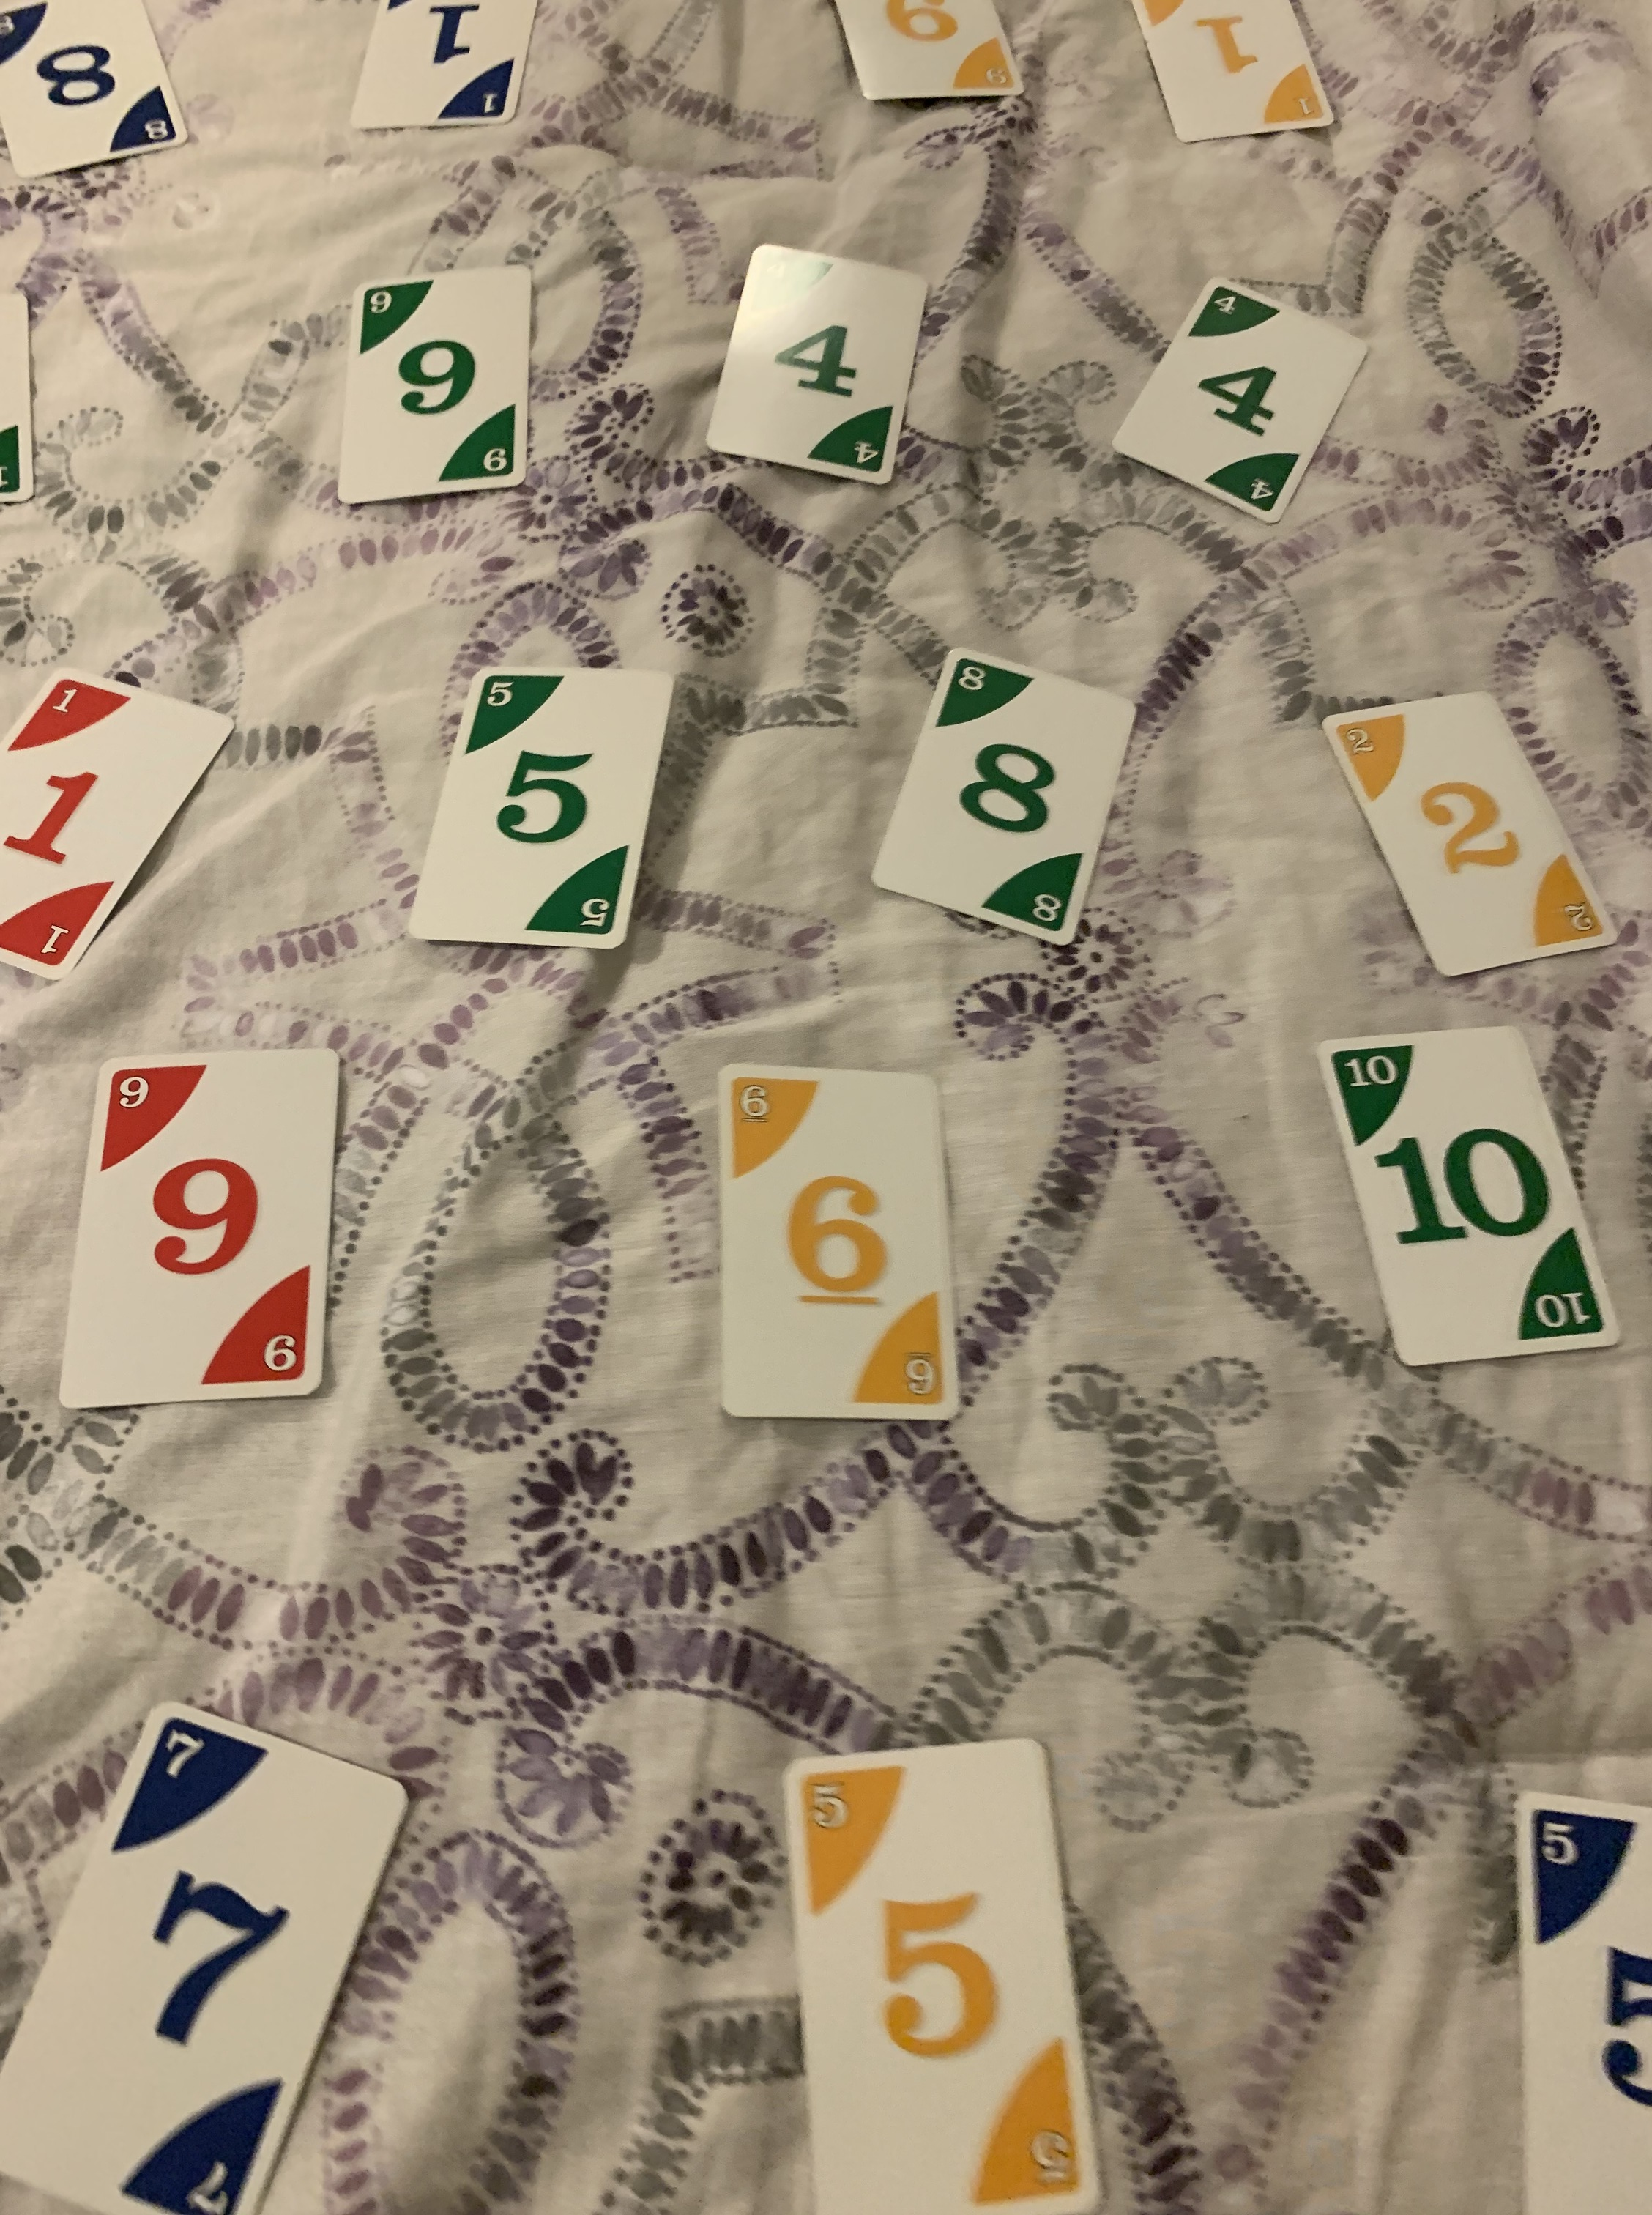eight: (866, 647, 1142, 953), (0, 2, 196, 194)
five: (786, 1736, 1105, 2215), (396, 656, 675, 950)
four: (1105, 267, 1373, 529), (699, 236, 935, 502)
nine: (54, 1055, 338, 1413), (328, 264, 538, 512)
one: (0, 668, 234, 988)
seven: (0, 1698, 410, 2210)
six: (711, 1055, 972, 1434)
ten: (1314, 1019, 1621, 1378)
two: (1312, 684, 1628, 983)
